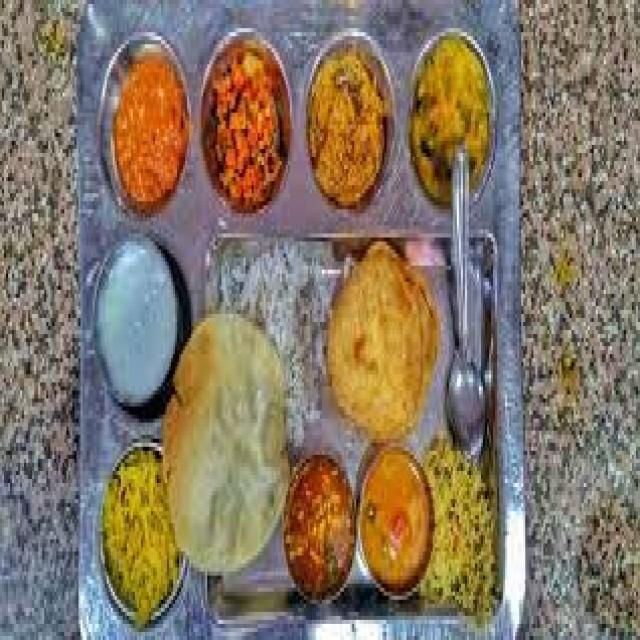curd: (88, 226, 185, 422)
pickle: (198, 42, 292, 194)
raita: (89, 233, 185, 408)
roti: (318, 238, 444, 451)
veg-fry: (404, 29, 497, 199), (351, 442, 442, 601)
